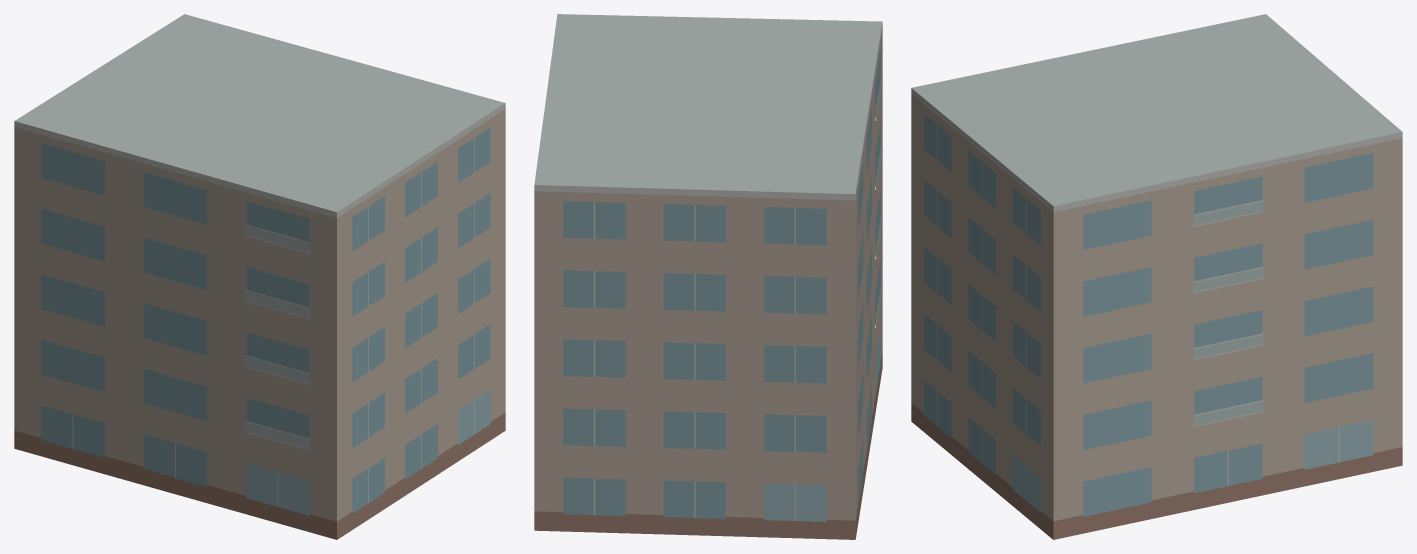
Rendered from survey-upis-32832775.glb.
The picture shows the model from 3 angles, left to right: view 1: azimuth 30°, elevation 25°; view 2: azimuth 150°, elevation 25°; view 3: azimuth 270°, elevation 25°; orthographic projection. The views are drawn at different scales.
Parts seen in each view (by area): view 1: survey-upis-32832775.tmp; view 2: survey-upis-32832775.tmp; view 3: survey-upis-32832775.tmp.
Boxes of the visible parts, left/top/right/bottom form: survey-upis-32832775.tmp: left=14, top=14, right=505, bottom=539; survey-upis-32832775.tmp: left=534, top=14, right=882, bottom=539; survey-upis-32832775.tmp: left=911, top=14, right=1402, bottom=539.
Bounding box in the file's own units: 16.69 × 13.5 × 18.03.
